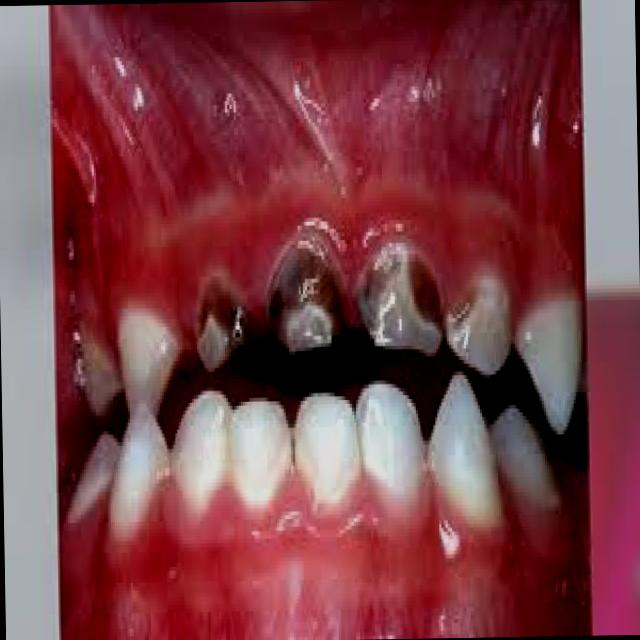caries: (260, 212, 350, 366), (363, 219, 447, 360), (189, 254, 249, 373)
